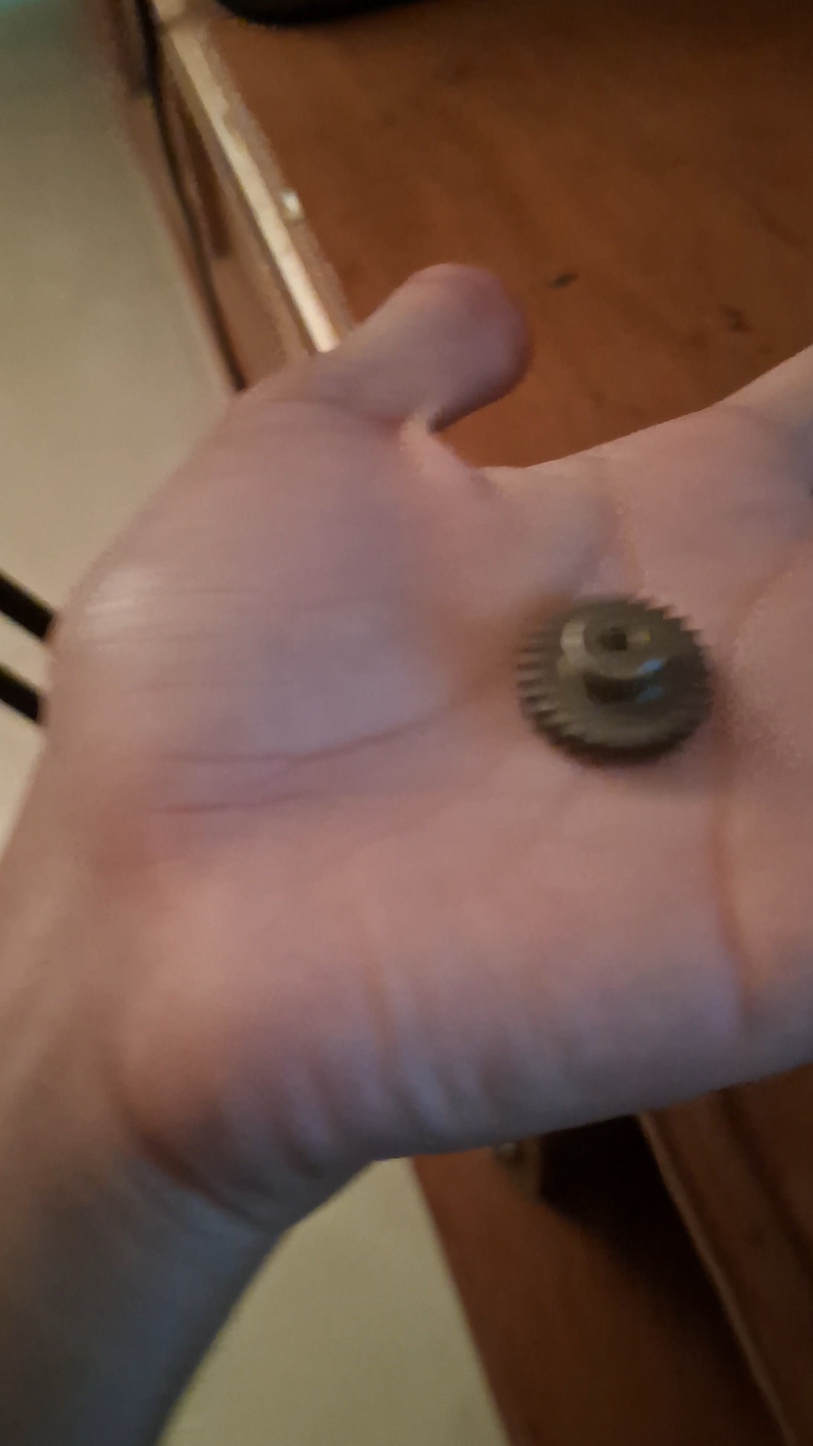spur gear: (517, 595, 712, 762)
